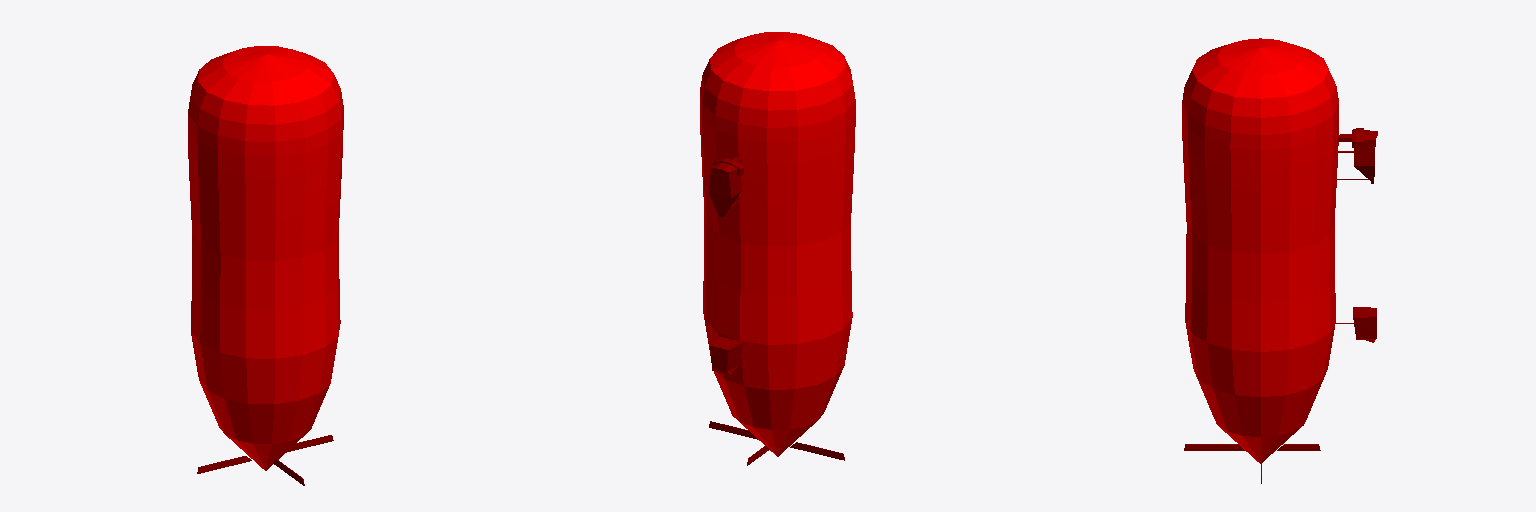
File: eflyship.obj
3 views of the same model, side by side, from view 1: azimuth 30°, elevation 25°; view 2: azimuth 150°, elevation 25°; view 3: azimuth 270°, elevation 25° (orthographic).
Parts seen in each view (by area): view 1: objobjL9-ZEPP, objobjL9-lowe; view 2: objobjL9-ZEPP, objobjL9-ccar, objobjL9-rcar, objobjL9-lowe; view 3: objobjL9-ZEPP, objobjL9-ccar, objobjL9-rcar, objobjL9-lowe.
Boxes of the visible parts, x1=… form: objobjL9-ZEPP: x1=188, y1=46, x2=343, y2=470; objobjL9-lowe: x1=197, y1=435, x2=333, y2=485; objobjL9-ZEPP: x1=700, y1=32, x2=855, y2=456; objobjL9-ccar: x1=709, y1=157, x2=743, y2=216; objobjL9-rcar: x1=710, y1=336, x2=742, y2=374; objobjL9-lowe: x1=709, y1=421, x2=844, y2=465; objobjL9-ZEPP: x1=1182, y1=38, x2=1338, y2=463; objobjL9-ccar: x1=1337, y1=128, x2=1377, y2=183; objobjL9-rcar: x1=1336, y1=307, x2=1376, y2=342; objobjL9-lowe: x1=1184, y1=444, x2=1320, y2=483.
Size of the model in its own units: 1183 by 3450 by 1473.